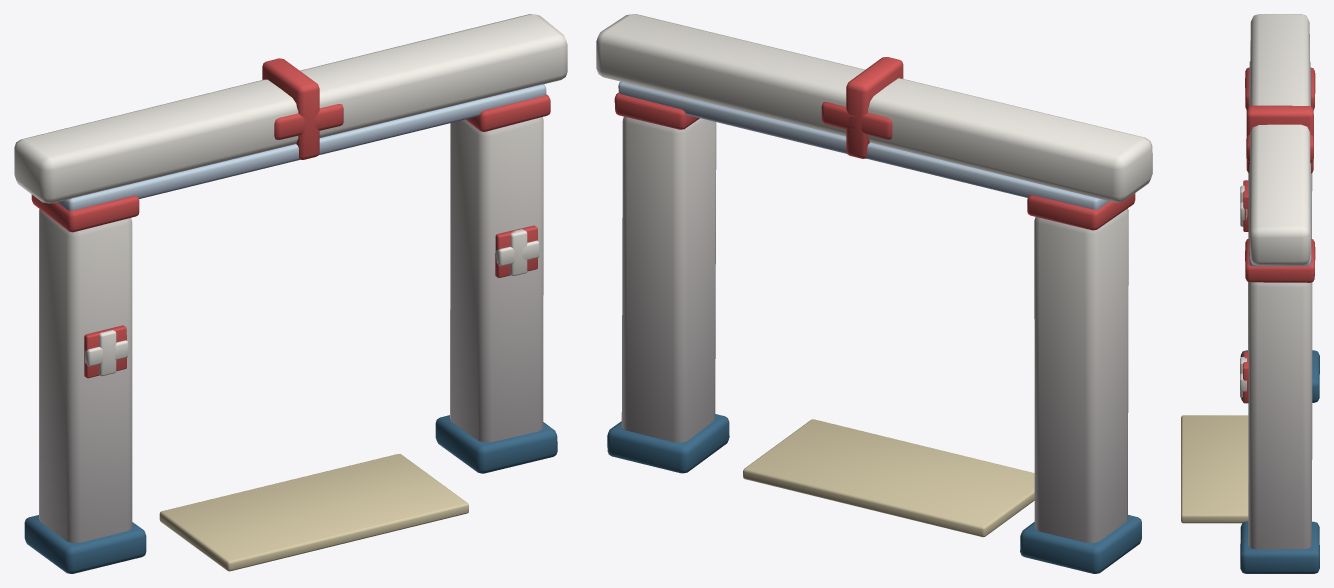
The picture shows the model from 3 angles, left to right: view 1: azimuth 30°, elevation 25°; view 2: azimuth 150°, elevation 25°; view 3: azimuth 270°, elevation 25°; orthographic projection. The views are drawn at different scales.
Parts seen in each view (by area): view 1: gate_e949a255; view 2: gate_e949a255; view 3: gate_e949a255.
Part boxes in pixels (x1=…): gate_e949a255: x1=14, y1=14, x2=567, y2=573; gate_e949a255: x1=596, y1=14, x2=1152, y2=573; gate_e949a255: x1=1181, y1=14, x2=1319, y2=573.
Size of the model in its own units: 5.24 by 4.07 by 1.4.
